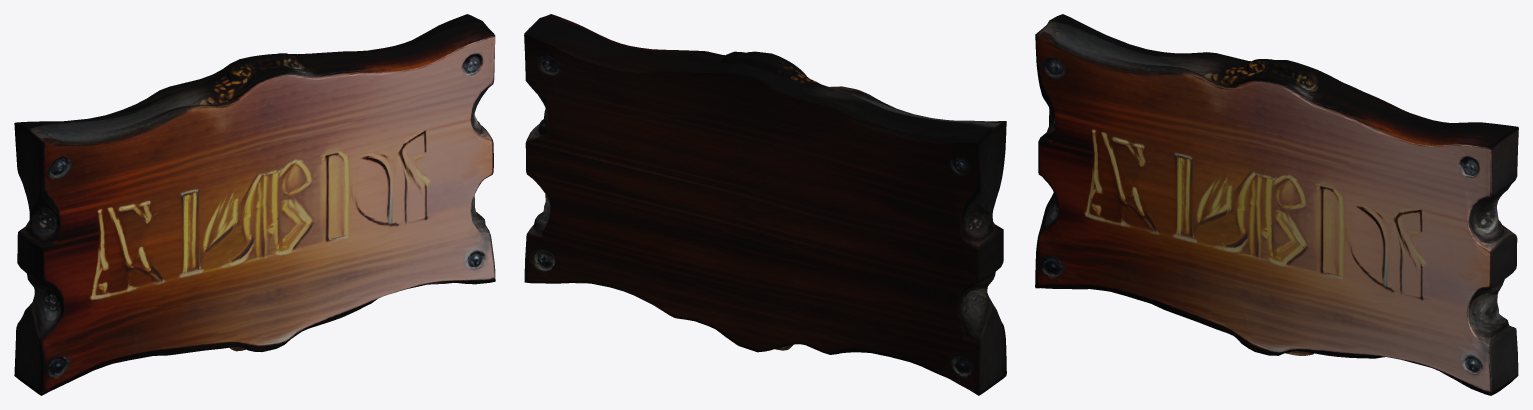
File: wooden-rustic-nameplate-futuristic.jpeg.glb
3 renders of one model, left to right at view 1: azimuth 30°, elevation 25°; view 2: azimuth 150°, elevation 25°; view 3: azimuth 330°, elevation 25°, orthographic.
Parts seen in each view (by area): view 1: world; view 2: world; view 3: world.
Boxes of the visible parts, <box> form: world: <box>14,14,495,395</box>; world: <box>524,14,1006,395</box>; world: <box>1035,14,1518,395</box>.
Bounding box in the file's own units: 0.9998 × 0.6061 × 0.1119.
Materials: 1 (1 with a texture image).
